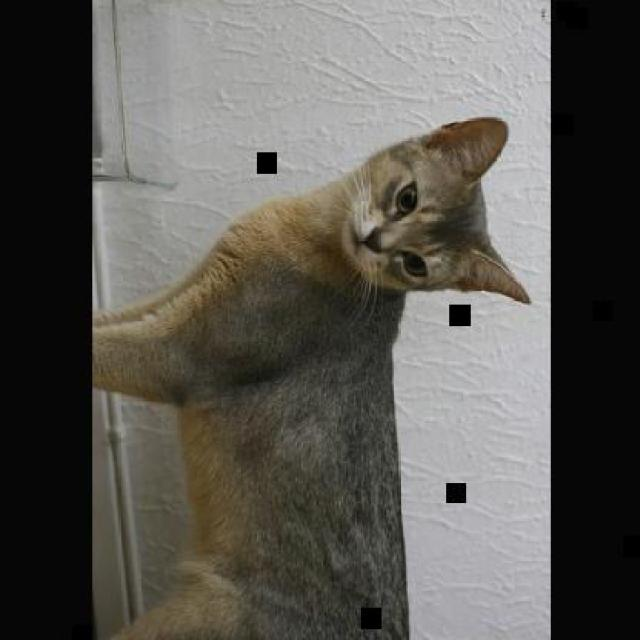unauthorized: (88, 114, 530, 638)
